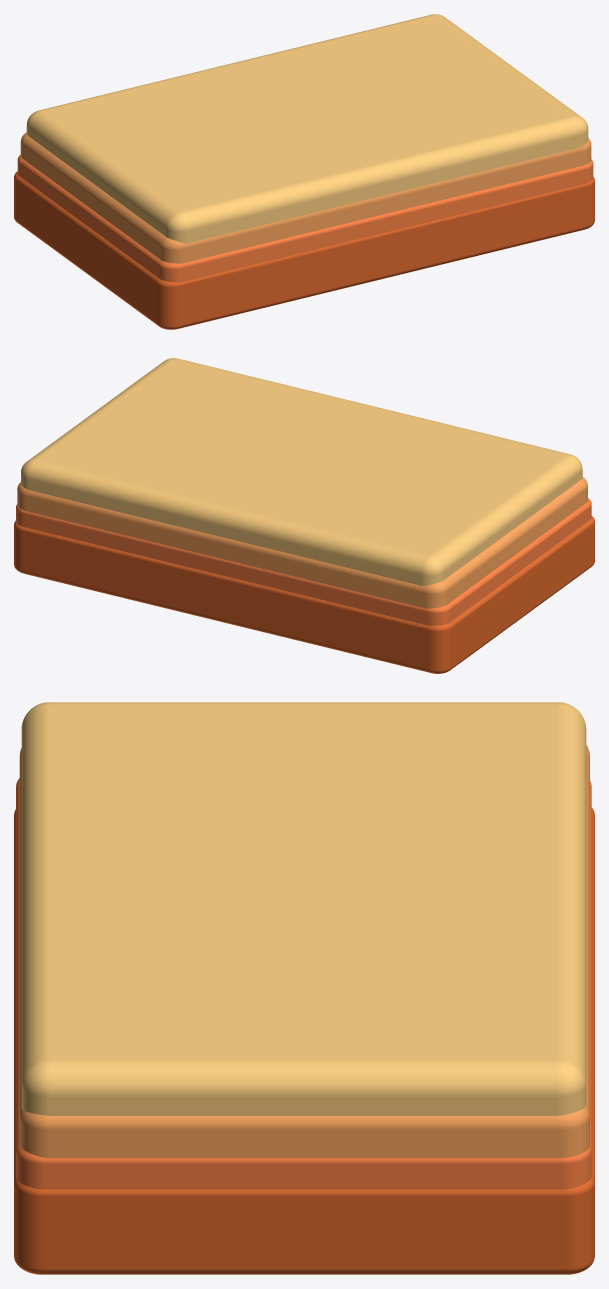
The model's file is boloretangulo cobertura verao.glb.
The picture shows the model from 3 angles, top to bottom: view 1: azimuth 30°, elevation 25°; view 2: azimuth 150°, elevation 25°; view 3: azimuth 270°, elevation 25°; orthographic projection. The views are drawn at different scales.
Parts seen in each view (by area): view 1: Cube.003, Cube.002, Cube.000, Cube.001; view 2: Cube.003, Cube.002, Cube.000, Cube.001; view 3: Cube.003, Cube.002, Cube.000, Cube.001.
Boxes of the visible parts, x1,y1,x2,y2 form: Cube.003: (26, 14, 588, 243); Cube.002: (14, 171, 594, 329); Cube.000: (20, 132, 591, 263); Cube.001: (17, 155, 593, 282); Cube.003: (21, 358, 582, 585); Cube.002: (14, 516, 594, 673); Cube.000: (17, 477, 587, 608); Cube.001: (16, 498, 591, 625); Cube.003: (21, 702, 586, 1115); Cube.002: (14, 807, 594, 1274); Cube.000: (19, 745, 589, 1158); Cube.001: (16, 778, 591, 1189).
Bounding box in the file's own units: 3.43 × 0.8379 × 2.14.
